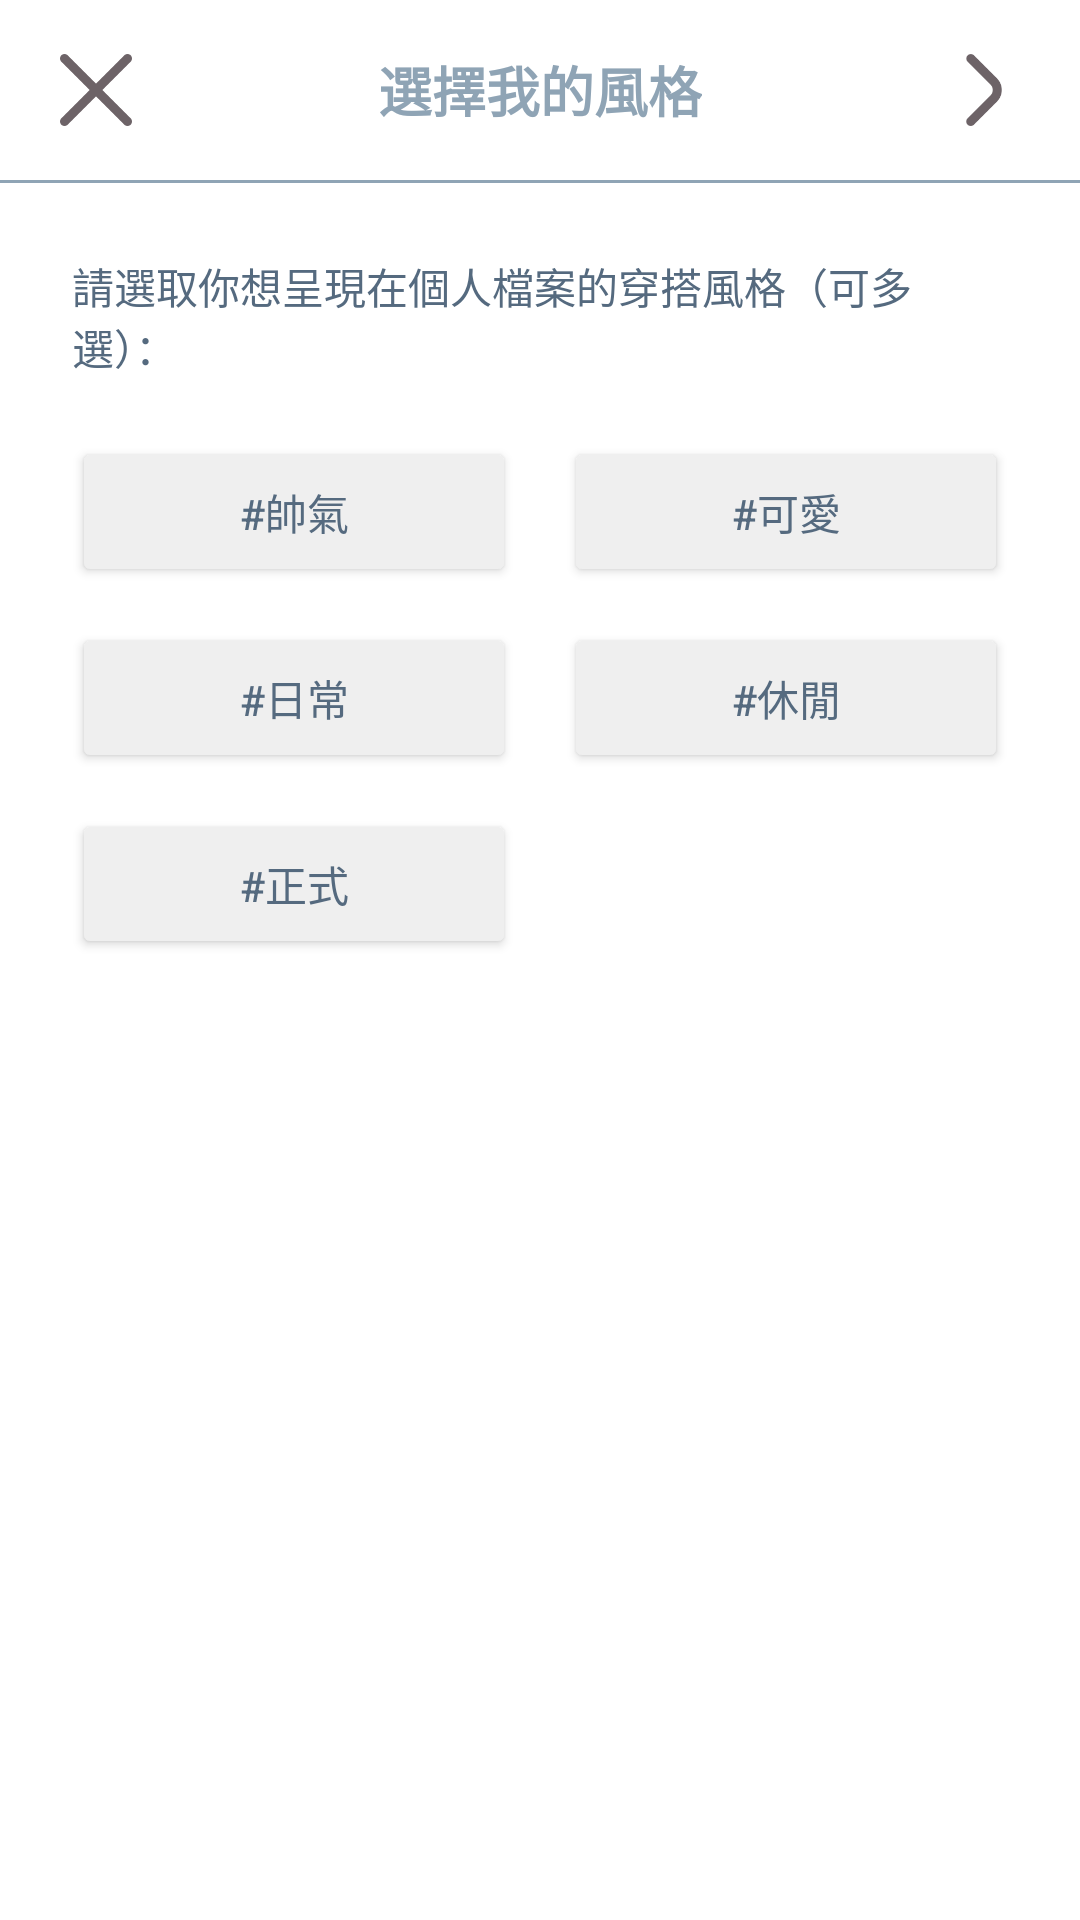

Icon bounding boxes for this 1080w x 1920h phone screenshot, format (x1, y1, x2, y2):
angle right: (966, 54, 1002, 126)
cross: (60, 54, 132, 126)
